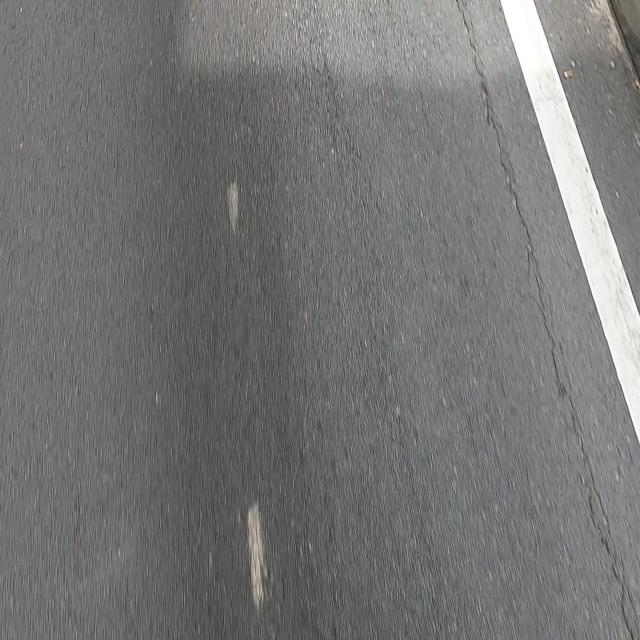Retak-Memanjang: (453, 3, 640, 640)
